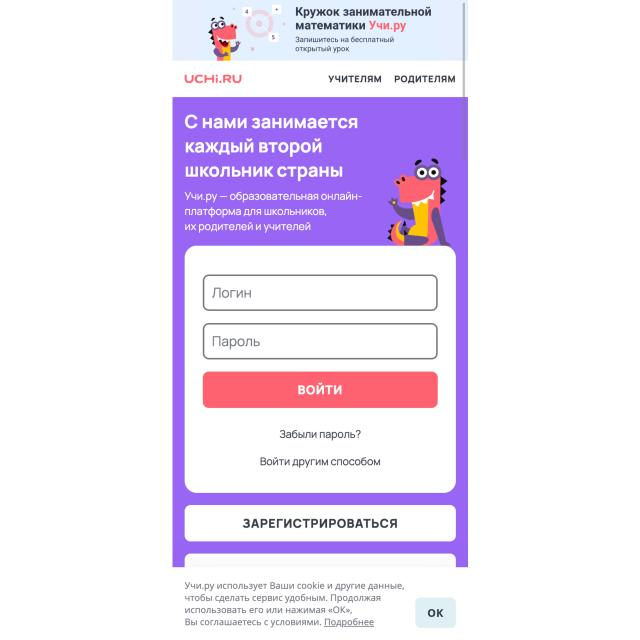input: (202, 274, 438, 313), (203, 322, 438, 360)
logo: (180, 70, 246, 88)
navigation: (324, 71, 456, 86)
